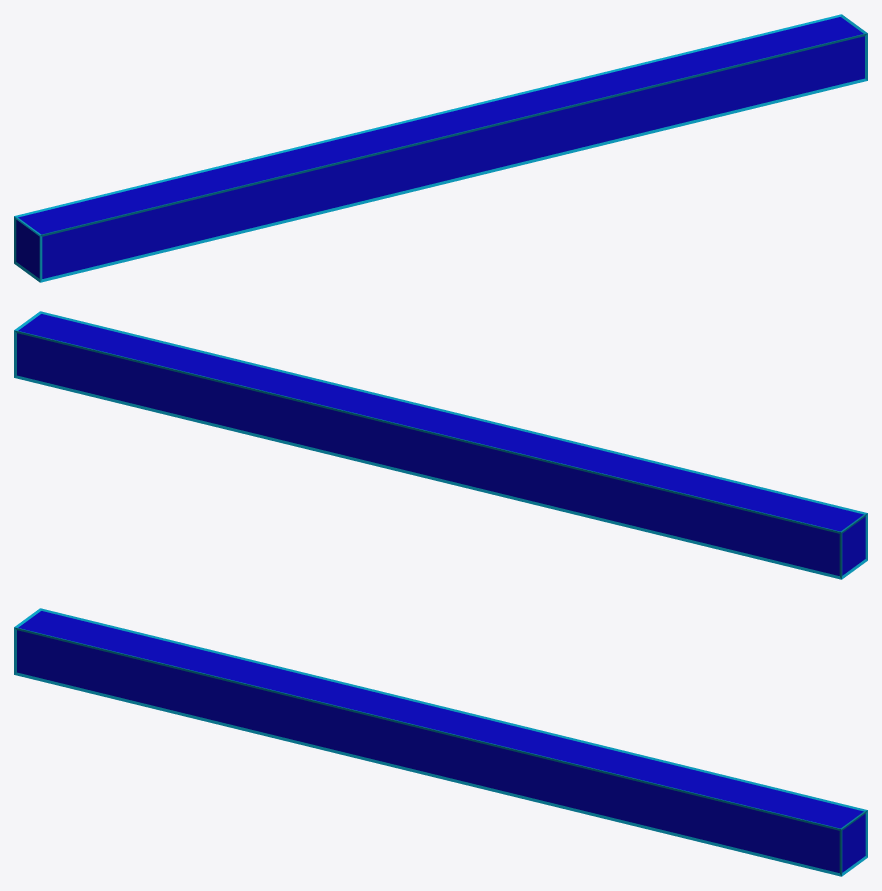
The model's file is horizontalRectangle9-1-1Blue.obj.
3 renders of one model, top to bottom at view 1: azimuth 30°, elevation 25°; view 2: azimuth 150°, elevation 25°; view 3: azimuth 330°, elevation 25°, orthographic.
Visible parts, largest first — view 1: Cube.001_Cube.004_Material.001, Cube.001_Cube.004_Material.002; view 2: Cube.001_Cube.004_Material.001, Cube.001_Cube.004_Material.002; view 3: Cube.001_Cube.004_Material.001, Cube.001_Cube.004_Material.002.
Part boxes in pixels (x1,y1,x2,y2): Cube.001_Cube.004_Material.001: [16, 17, 864, 278]; Cube.001_Cube.004_Material.002: [14, 14, 867, 282]; Cube.001_Cube.004_Material.001: [17, 314, 865, 575]; Cube.001_Cube.004_Material.002: [14, 311, 867, 579]; Cube.001_Cube.004_Material.001: [17, 611, 865, 872]; Cube.001_Cube.004_Material.002: [14, 608, 867, 876].
Size of the model in its own units: 19 by 1.04 by 1.04.
